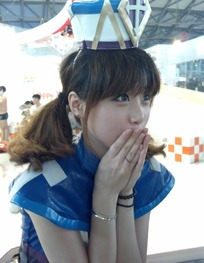face: (89, 70, 152, 159)
